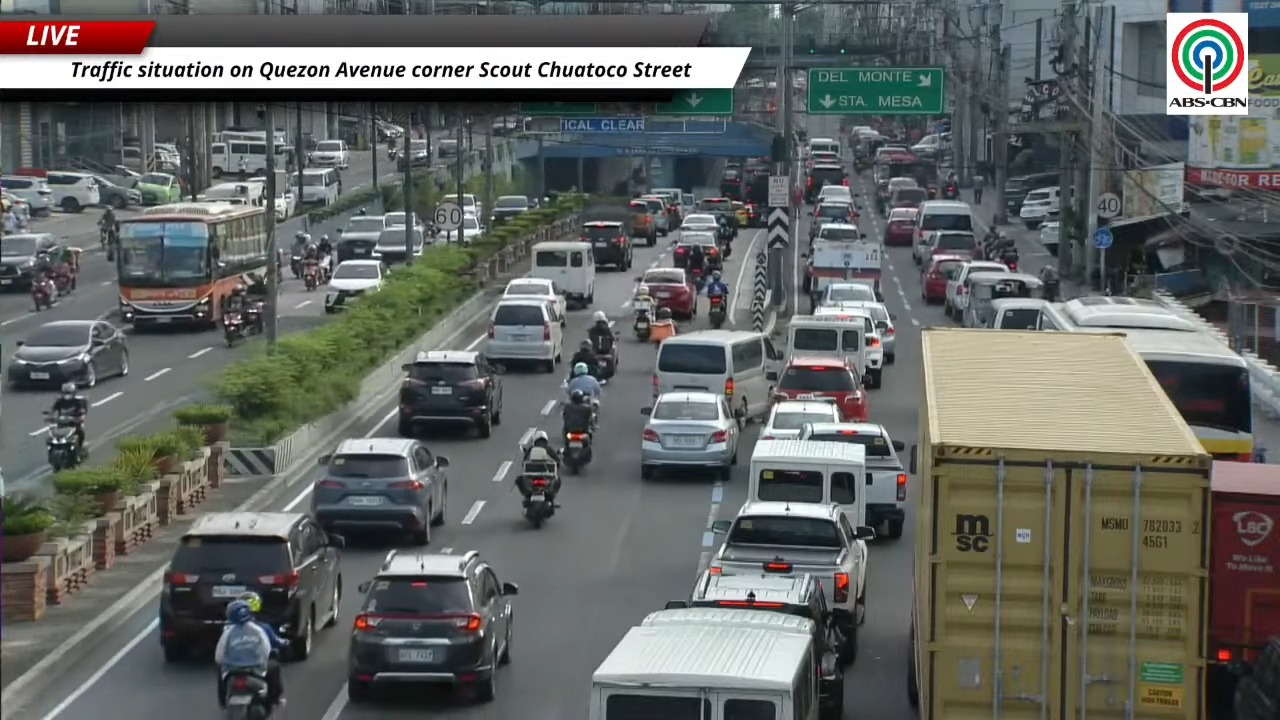bus: (1058, 297, 1254, 461), (116, 202, 268, 328)
car: (642, 571, 843, 719), (159, 512, 344, 661), (347, 550, 517, 704), (311, 437, 448, 545), (799, 423, 907, 538), (640, 391, 743, 480), (398, 350, 502, 437), (7, 320, 128, 387), (813, 303, 885, 388), (483, 297, 563, 371), (775, 357, 867, 421), (944, 260, 1010, 319), (840, 301, 895, 363), (324, 259, 387, 313), (759, 398, 840, 439), (0, 233, 59, 289), (503, 277, 566, 326), (637, 268, 697, 318), (580, 220, 632, 270), (45, 170, 101, 212), (335, 215, 386, 261), (921, 254, 968, 303), (0, 176, 53, 215), (920, 230, 979, 265), (373, 225, 426, 263), (623, 198, 664, 246), (672, 232, 722, 270), (803, 163, 848, 203), (810, 200, 857, 238), (1019, 186, 1059, 229), (134, 172, 182, 205), (698, 197, 736, 238), (818, 280, 877, 306), (878, 176, 918, 214), (94, 176, 140, 209), (438, 214, 486, 244), (639, 194, 673, 236), (883, 208, 917, 246), (652, 188, 682, 230), (340, 215, 389, 240), (0, 191, 32, 228), (307, 140, 349, 168), (491, 195, 531, 224), (396, 139, 431, 171), (440, 193, 483, 217), (911, 214, 931, 265), (814, 222, 864, 242), (816, 178, 853, 205), (887, 187, 928, 210), (1038, 220, 1060, 257), (679, 213, 719, 233), (719, 168, 743, 200), (744, 201, 766, 227), (806, 151, 839, 168), (732, 200, 749, 227), (382, 211, 405, 228)
motorcycle: (516, 459, 558, 527), (224, 672, 272, 719), (46, 413, 82, 472), (524, 477, 553, 528), (591, 333, 618, 381), (562, 432, 591, 474), (31, 277, 57, 311), (222, 312, 246, 347), (49, 265, 76, 295), (708, 295, 726, 328), (633, 307, 650, 341), (100, 226, 115, 259), (303, 261, 320, 290), (999, 248, 1019, 271), (319, 253, 333, 282), (690, 268, 704, 291), (290, 253, 302, 278), (942, 184, 958, 199), (387, 147, 398, 161)
truck: (907, 329, 1211, 719), (708, 501, 874, 664), (1207, 461, 1279, 717), (802, 225, 885, 306)
